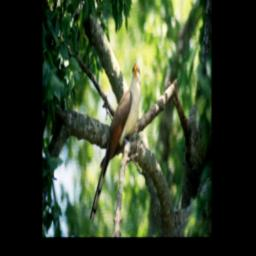Cuckoo: (88, 59, 142, 226)
